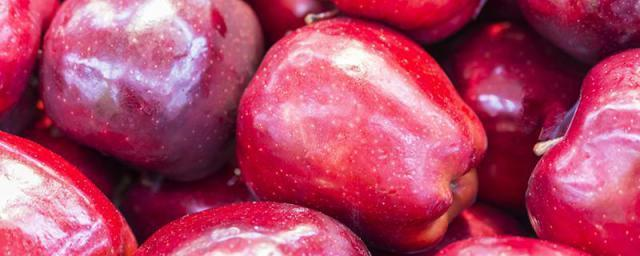apple: (237, 16, 483, 244), (31, 1, 262, 173), (522, 48, 640, 256)
